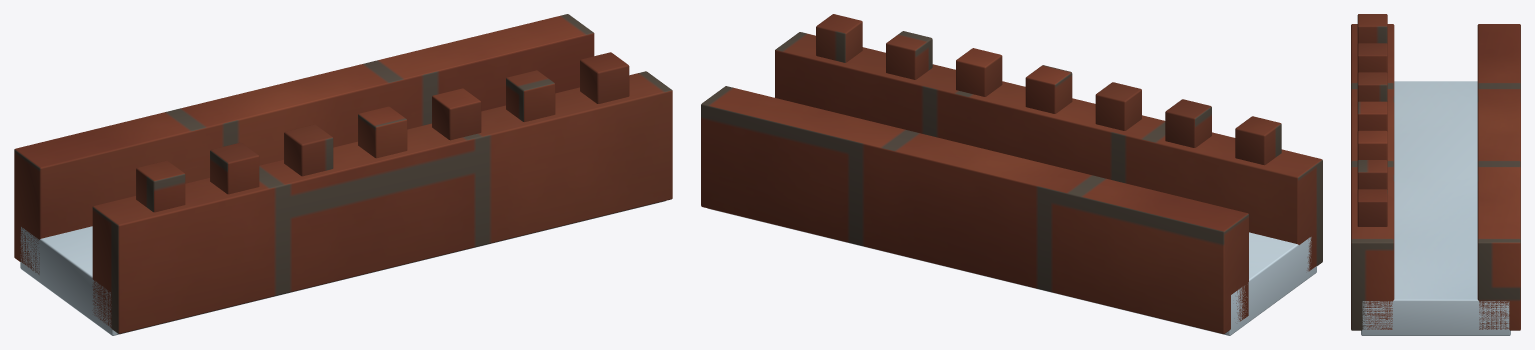
Rendered from building_university_moat.fbx.
3 views of the same model, side by side, from view 1: azimuth 30°, elevation 25°; view 2: azimuth 150°, elevation 25°; view 3: azimuth 270°, elevation 25° (orthographic). The views are drawn at different scales.
Visible parts, largest first — view 1: building_university_moat; view 2: building_university_moat; view 3: building_university_moat.
Part boxes in pixels (x1,y1,x2,y2): building_university_moat: (14,14,672,335); building_university_moat: (701,14,1322,335); building_university_moat: (1351,14,1520,335).
Size of the model in its own units: 9 by 2.29 by 2.95.
